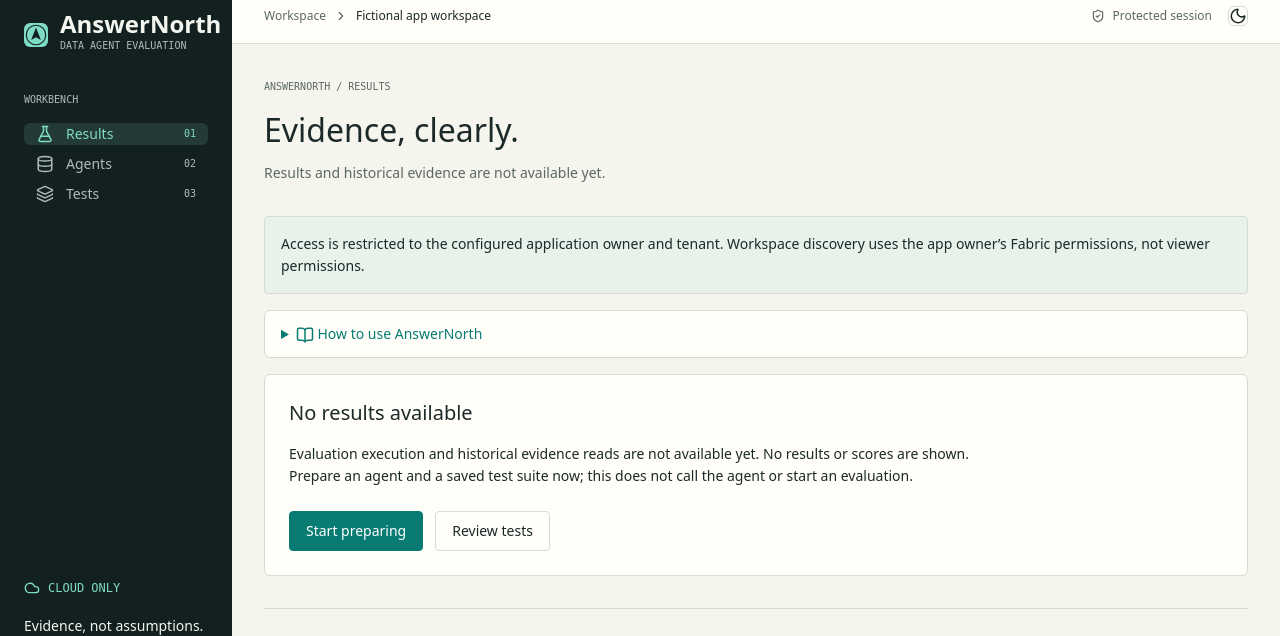
Scenario: Proofbench › renders agent and suite values as inert text, never executable markup
This screenshot has width=1280, height=636.
expect the text "Fictional app workspace" is shown: met, box [356,5,491,27]
Click the link "Agents 02" at (89, 164), box [24,153,208,175]
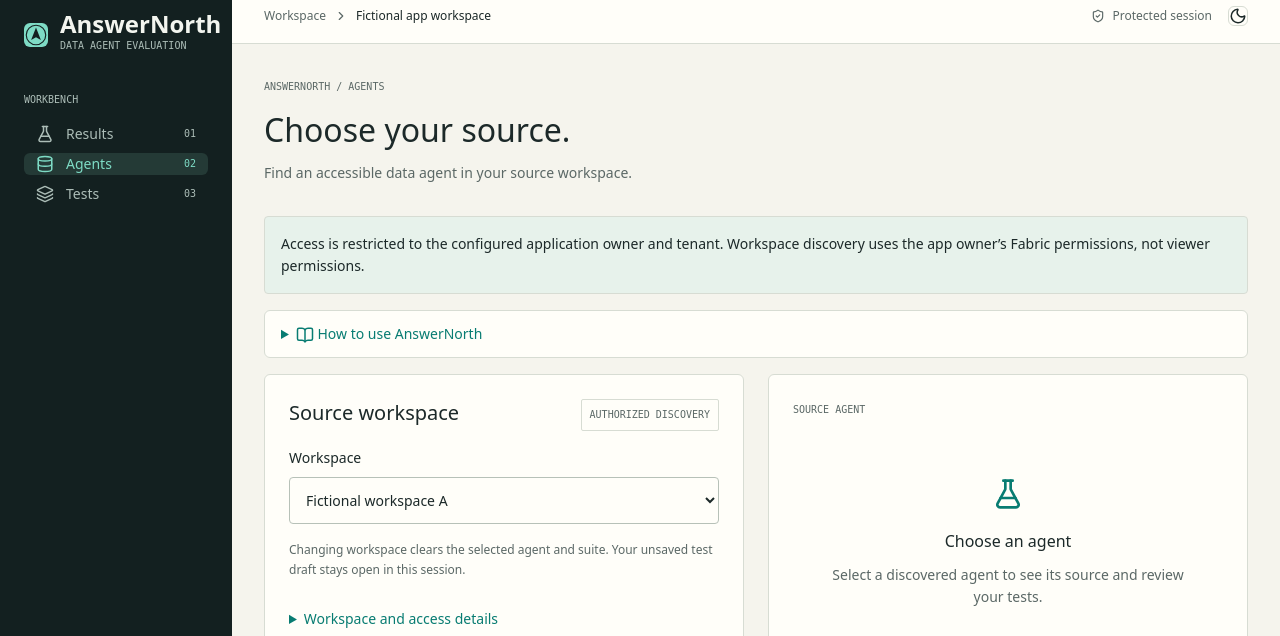
expect the text "Fictional app workspace" is shown: met, box [356,5,491,27]
Click the link "Tests 03" at (83, 194), box [24,183,208,205]
(page scrolled)
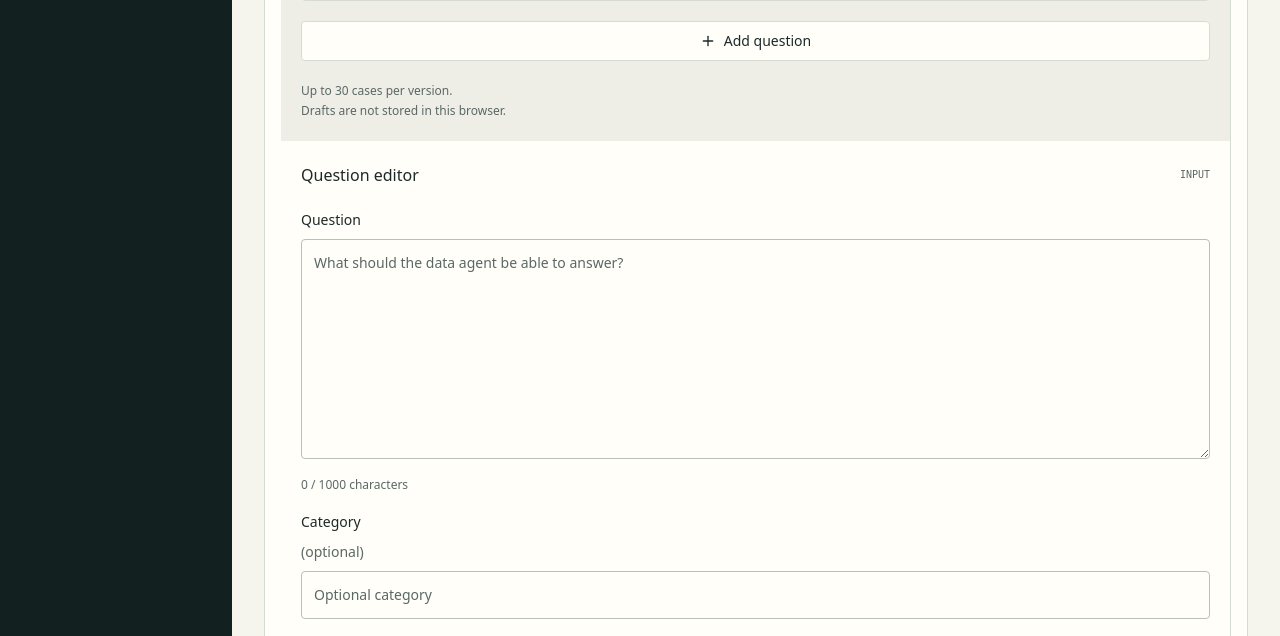
Type "<img src=x onerror=alert(1)>" into the text box labelled "Question" at (756, 349), box [301,239,1210,459]
(page scrolled)
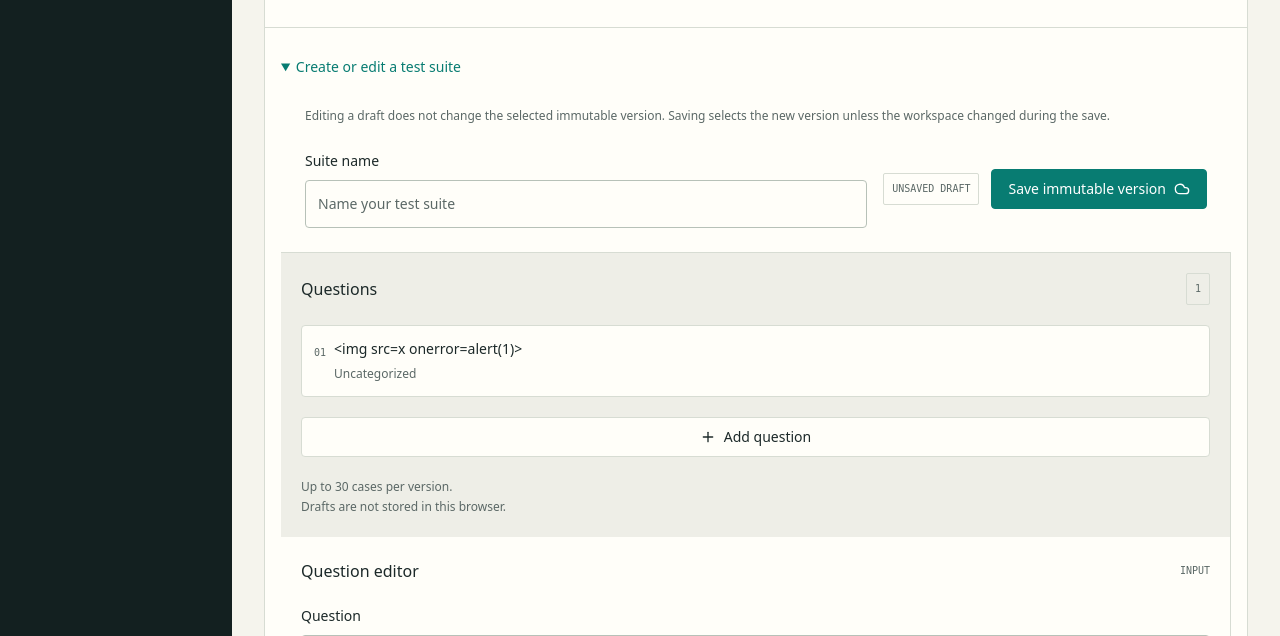
expect the text "<img src=x onerror=alert(1)>" is shown: met, box [334,339,522,358]
